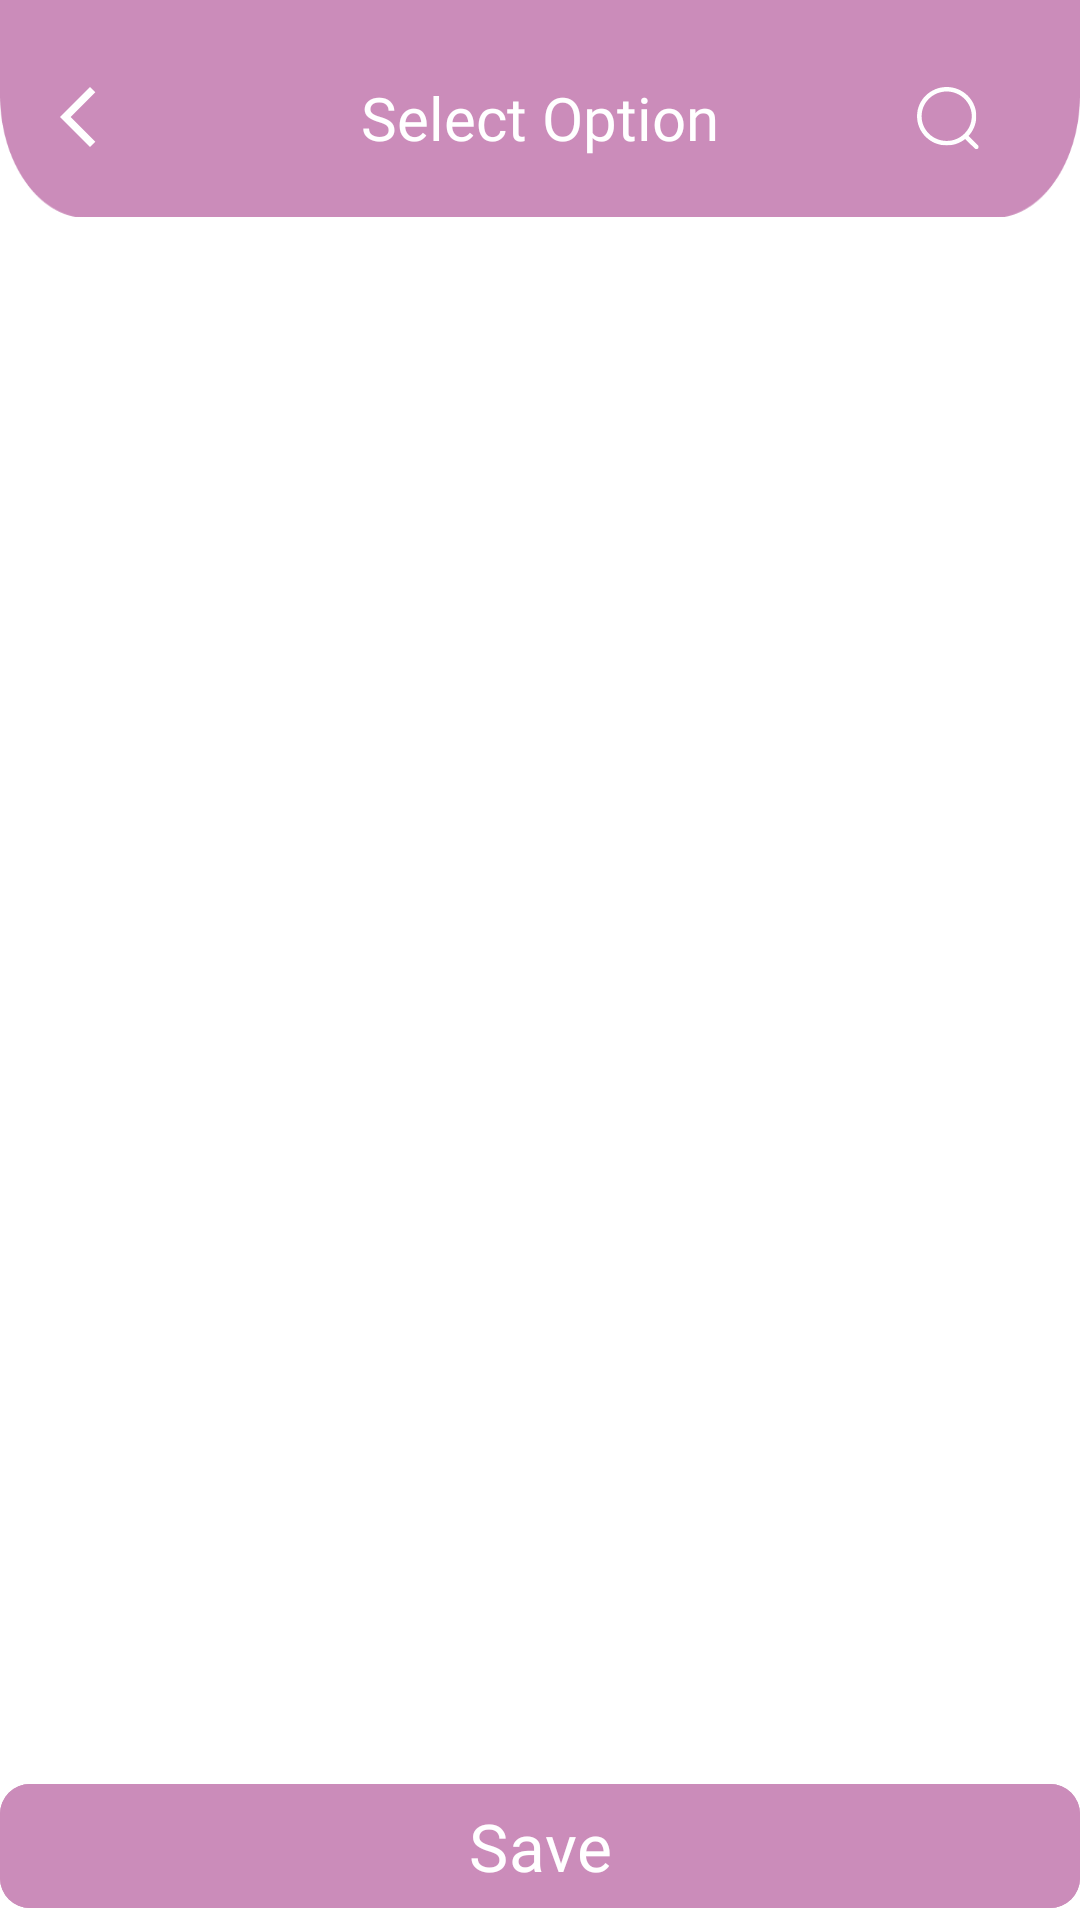

Locate icon controls on the screen. Image size 1080x1920, boxes as (x1, y1, x2, y2).
backward arrow: (60, 87, 95, 147)
